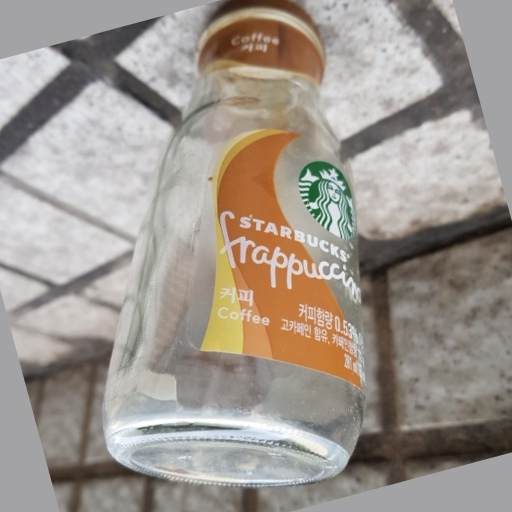Glass_4: (100, 7, 369, 491)
